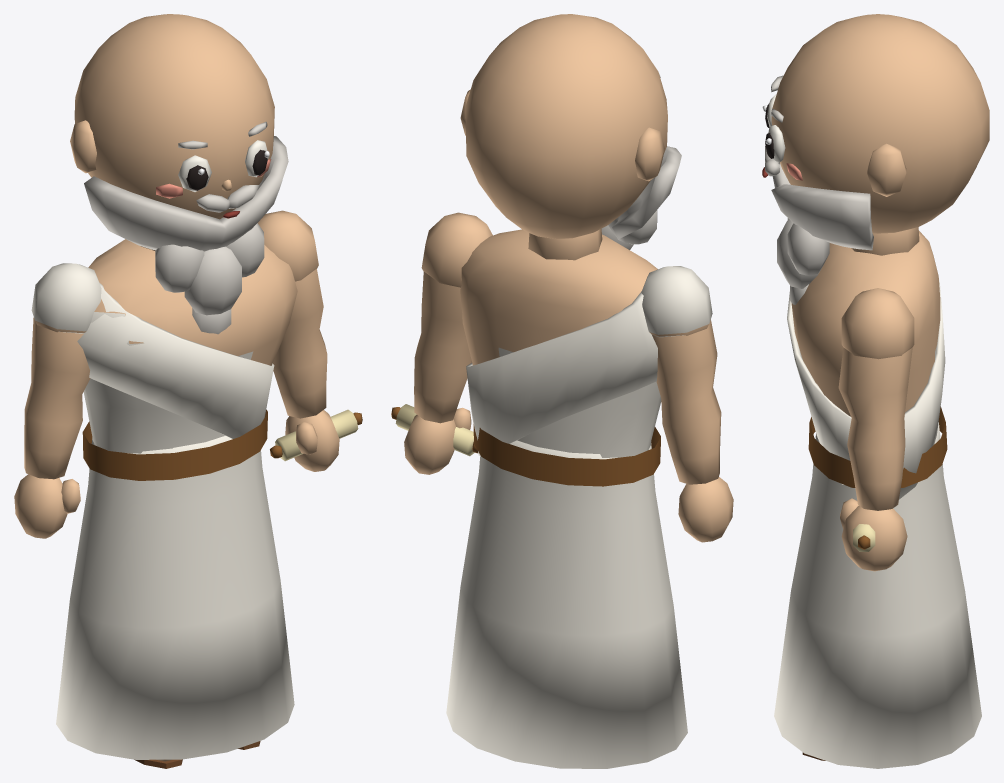
Rendered from philosoph.glb.
The picture shows the model from 3 angles, left to right: view 1: azimuth 30°, elevation 25°; view 2: azimuth 150°, elevation 25°; view 3: azimuth 270°, elevation 25°; orthographic projection.
Parts seen in each view (by area): view 1: huefte, rumpf, kopf, bart, armL, armR, itemR, augeL, augeR; view 2: huefte, rumpf, kopf, armL, armR, bart, itemR; view 3: huefte, kopf, rumpf, armR, bart, augeR, itemR.
Part boxes in pixels (x1,y1,x2,y2): huefte: [56, 436, 294, 759]; rumpf: [77, 239, 297, 480]; kopf: [70, 14, 274, 250]; bart: [84, 136, 288, 334]; armL: [14, 263, 101, 538]; armR: [258, 210, 339, 471]; itemR: [270, 409, 362, 461]; augeL: [178, 155, 211, 191]; augeR: [245, 140, 269, 177]; huefte: [446, 440, 687, 768]; rumpf: [460, 229, 661, 486]; kopf: [460, 14, 667, 260]; armL: [641, 266, 733, 542]; armR: [404, 212, 492, 474]; bart: [601, 146, 681, 249]; itemR: [391, 404, 478, 456]; huefte: [774, 422, 981, 768]; kopf: [771, 14, 989, 255]; rumpf: [787, 230, 947, 499]; armR: [838, 288, 914, 571]; bart: [765, 145, 873, 304]; augeR: [765, 125, 785, 162]; itemR: [853, 524, 875, 551].
Bounding box in the file's own units: 1.13 × 2.26 × 0.6562.
